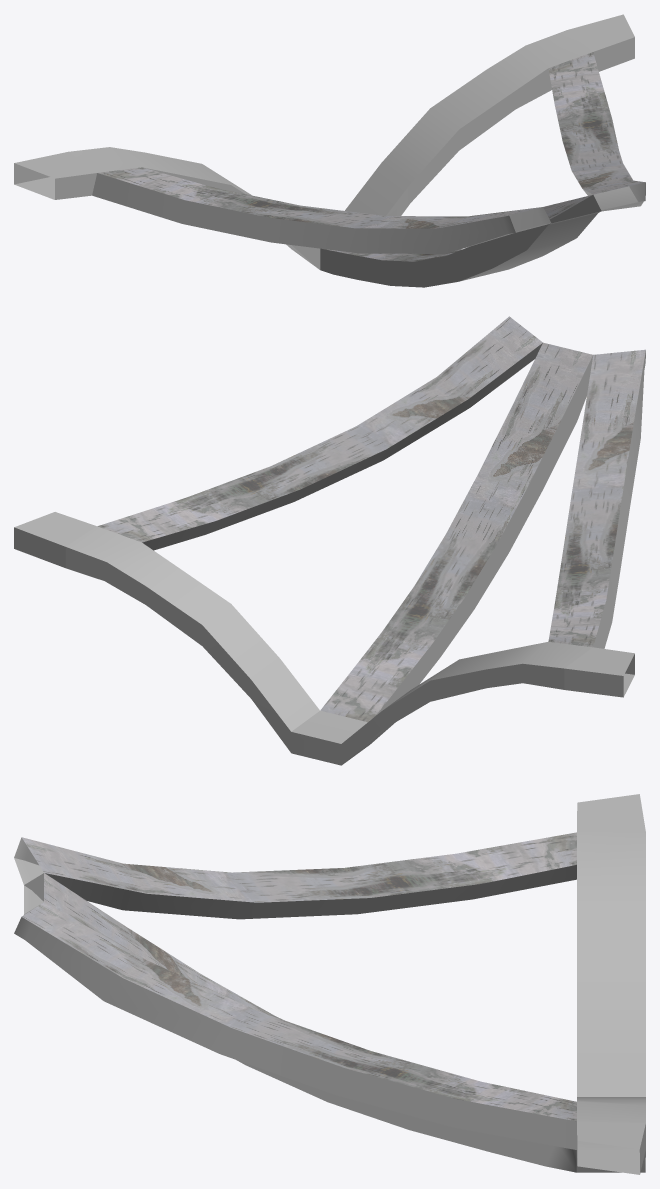
Rendered from Platform Up base with light map.fbx.
The picture shows the model from 3 angles, top to bottom: view 1: azimuth 30°, elevation 25°; view 2: azimuth 150°, elevation 25°; view 3: azimuth 270°, elevation 25°; orthographic projection. The views are drawn at different scales.
Parts seen in each view (by area): view 1: Platfrom_UP_Base; view 2: Platfrom_UP_Base; view 3: Platfrom_UP_Base.
Part boxes in pixels (x1,y1,x2,y2): Platfrom_UP_Base: (14,14,645,287); Platfrom_UP_Base: (14,316,645,765); Platfrom_UP_Base: (14,794,645,1174).
Size of the model in its own units: 1216 by 449 by 914.
